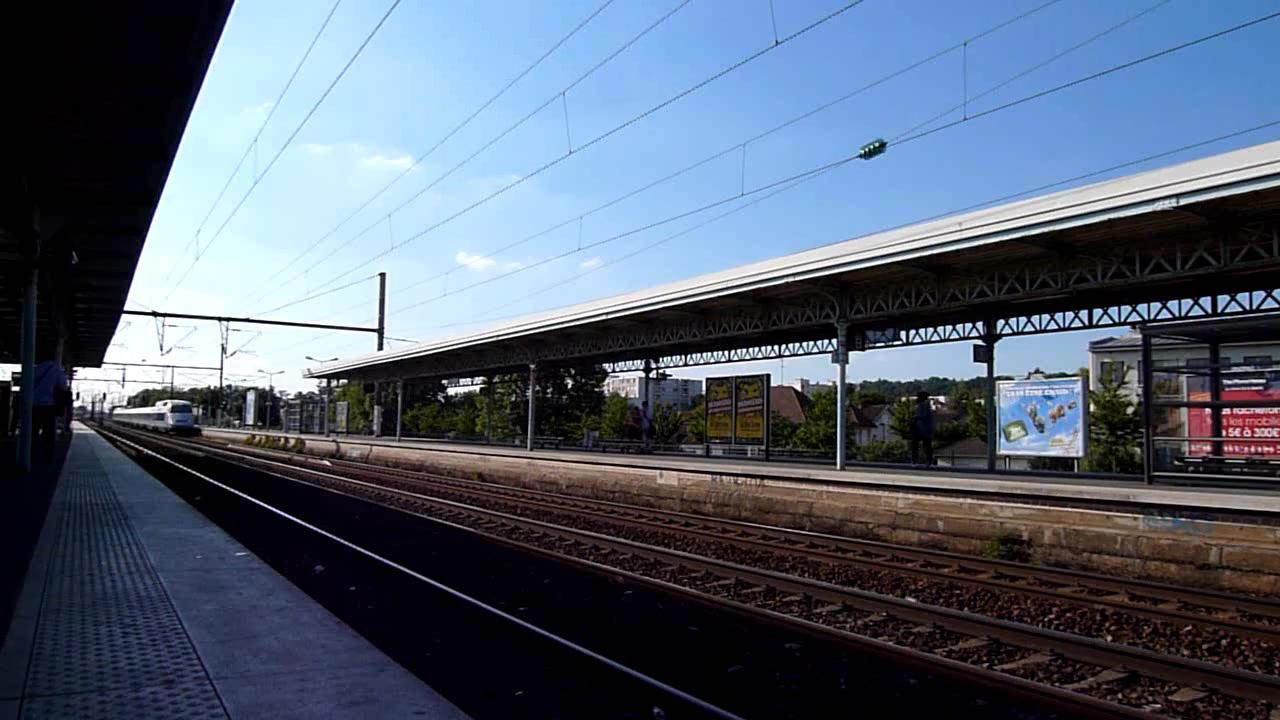train: (107, 396, 200, 432)
